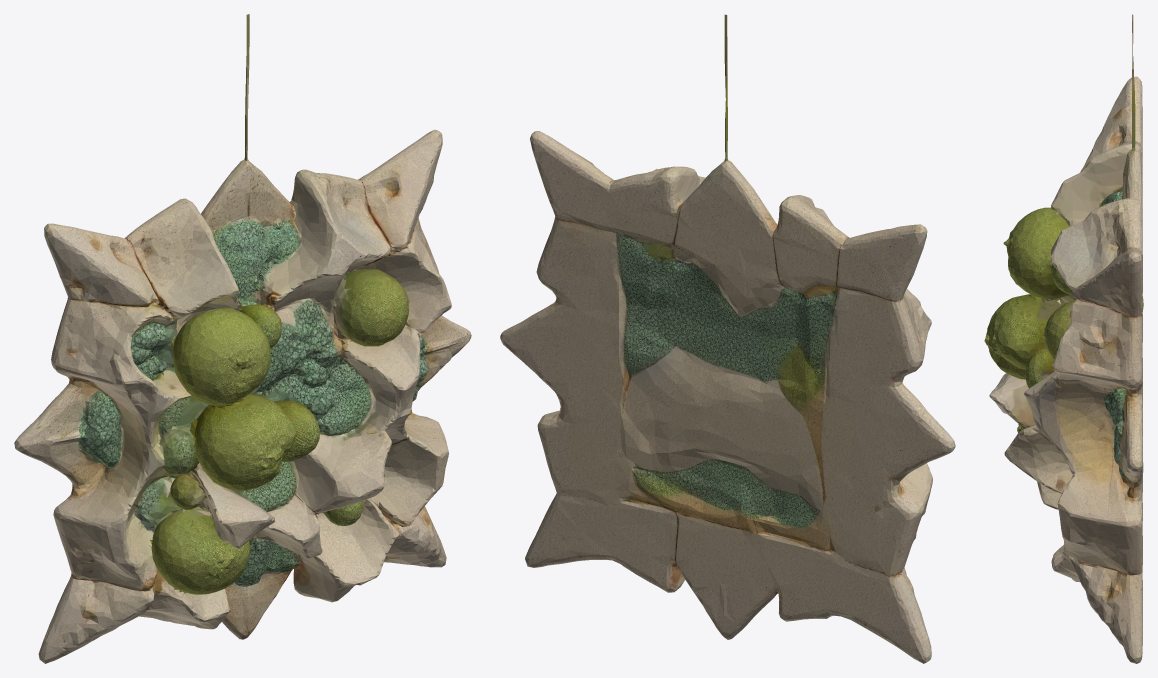
File: head (330).glb
3 views of the same model, side by side, from view 1: azimuth 30°, elevation 25°; view 2: azimuth 150°, elevation 25°; view 3: azimuth 270°, elevation 25° (orthographic). The views are drawn at different scales.
Parts seen in each view (by area): view 1: Hy21_Mesh.obj; view 2: Hy21_Mesh.obj; view 3: Hy21_Mesh.obj.
Boxes of the visible parts, bbox=[...] form: Hy21_Mesh.obj: bbox=[14, 14, 471, 663]; Hy21_Mesh.obj: bbox=[500, 14, 955, 663]; Hy21_Mesh.obj: bbox=[984, 14, 1143, 663].
Bounding box in the file's own units: 1.49 × 1.95 × 0.4827.
1 material, 1 textured.
